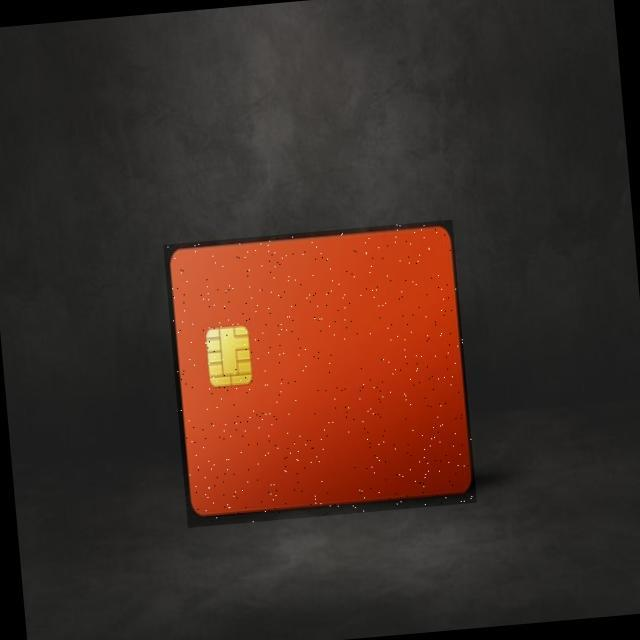payment_card: (163, 219, 477, 523)
